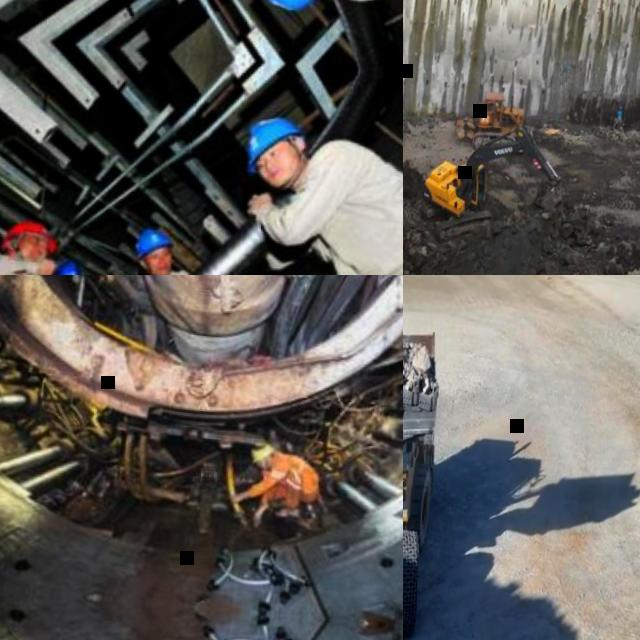Hardhat: (243, 113, 304, 169), (1, 218, 60, 252), (132, 227, 178, 263), (249, 440, 277, 464), (257, 0, 312, 12), (57, 262, 82, 275), (619, 105, 623, 109)
NO-Mask: (264, 160, 299, 185), (10, 243, 43, 263), (152, 261, 170, 275), (261, 460, 271, 471)
NO-Safety Vest: (294, 140, 403, 275), (267, 453, 312, 491)
Person: (201, 111, 403, 275), (227, 437, 325, 533), (73, 222, 208, 275), (13, 255, 78, 275), (616, 103, 626, 124)
Safety Vest: (617, 111, 623, 120)
vehicle: (416, 117, 570, 250), (403, 312, 453, 640), (472, 89, 539, 152)
